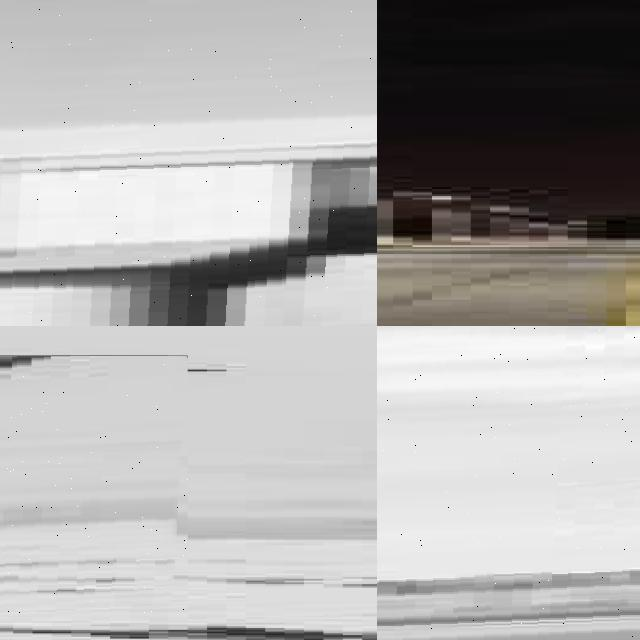street light: (0, 0, 377, 326), (377, 326, 640, 640), (0, 355, 187, 624)
